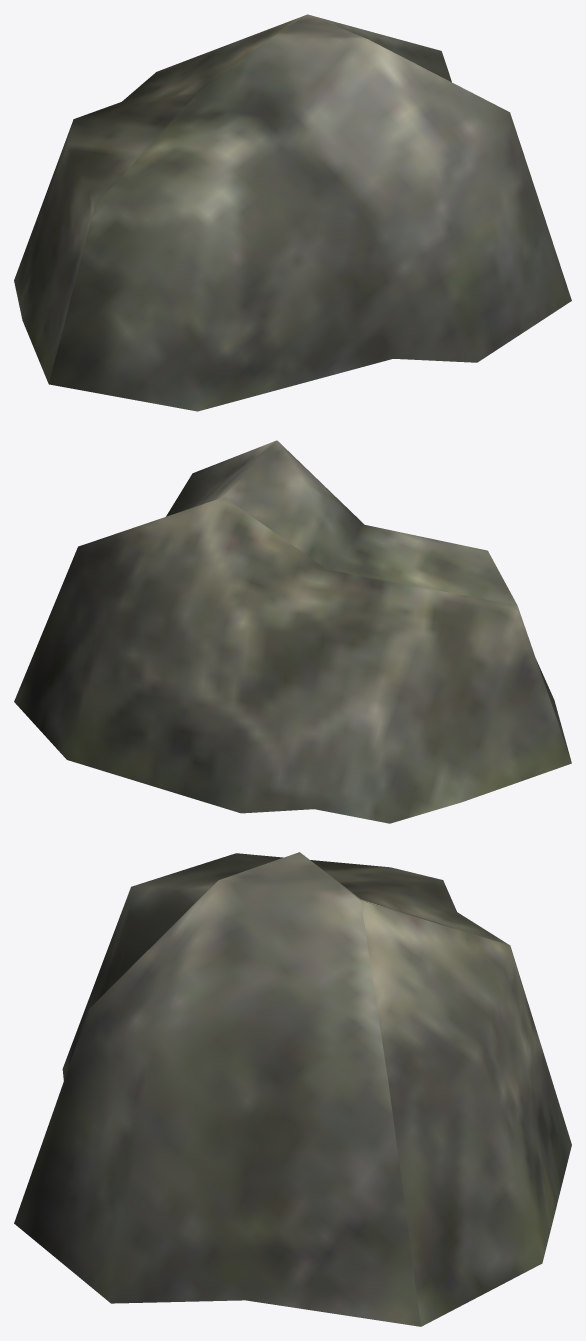
Rendered from yw_roc009.FBX.
3 renders of one model, top to bottom at view 1: azimuth 30°, elevation 25°; view 2: azimuth 150°, elevation 25°; view 3: azimuth 270°, elevation 25°, orthographic. The views are drawn at different scales.
Parts seen in each view (by area): view 1: yw_roc009; view 2: yw_roc009; view 3: yw_roc009.
Boxes of the visible parts, x1,y1,x2,y2 form: yw_roc009: (14, 14, 571, 411); yw_roc009: (14, 440, 571, 823); yw_roc009: (14, 852, 571, 1326).
Size of the model in its own units: 2.38 by 1.18 by 1.82.
